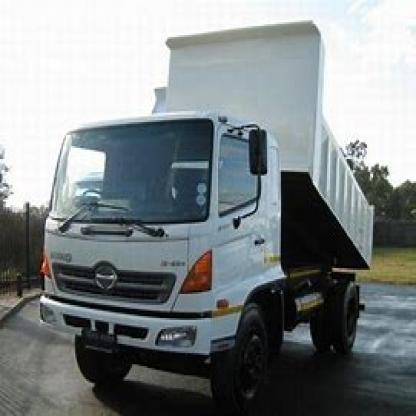dump_truck: (31, 13, 379, 414)
